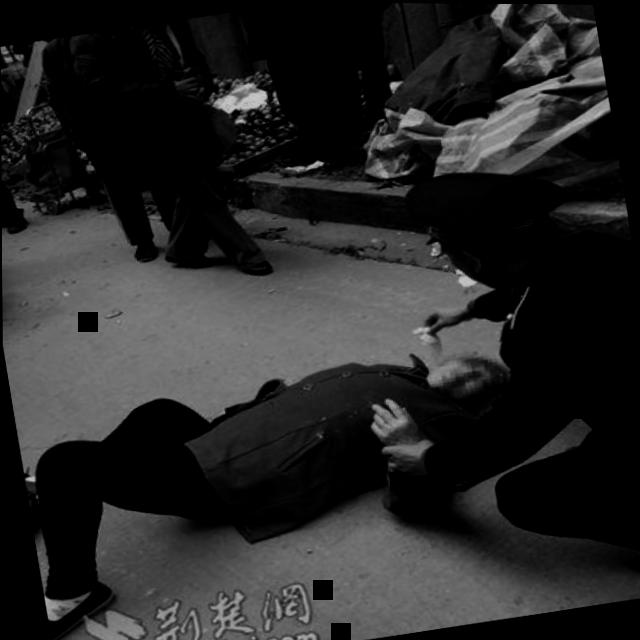Fall-Detected: (6, 293, 544, 630)
